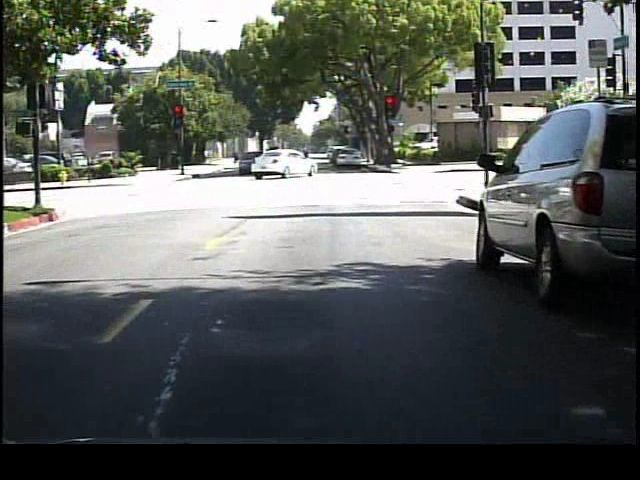person: (297, 142, 314, 176)
